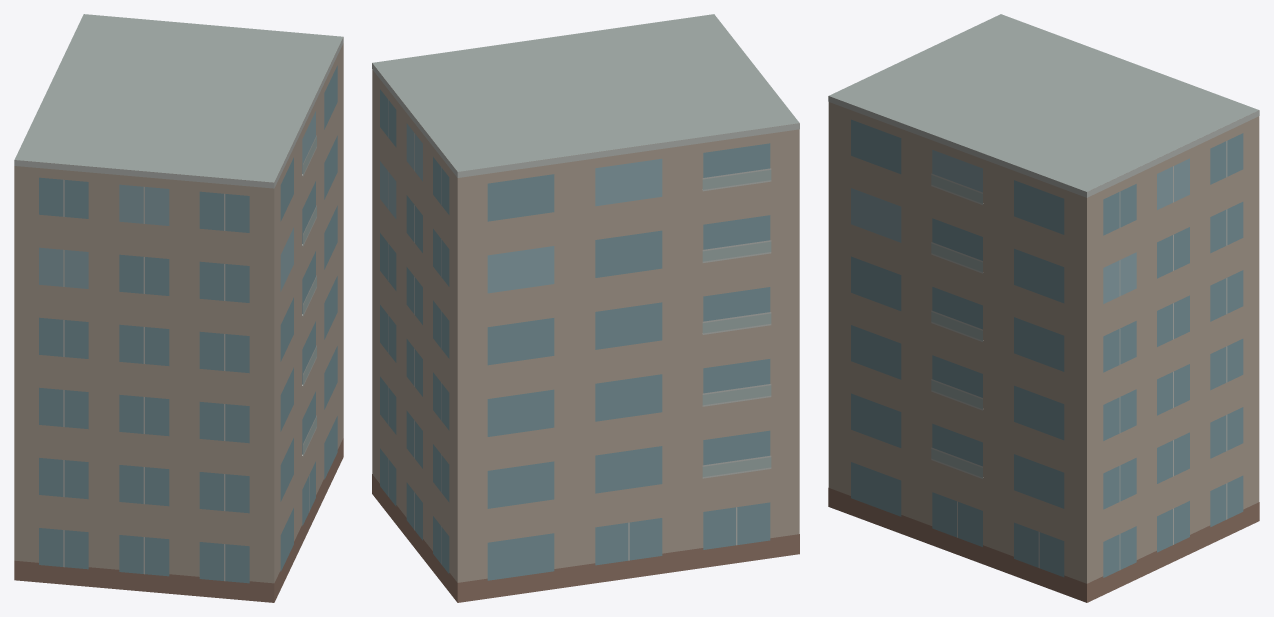
File: survey-upis-32523392.glb
3 renders of one model, left to right at view 1: azimuth 30°, elevation 25°; view 2: azimuth 150°, elevation 25°; view 3: azimuth 270°, elevation 25°, orthographic. The views are drawn at different scales.
Visible parts, largest first — view 1: survey-upis-32523392.tmp; view 2: survey-upis-32523392.tmp; view 3: survey-upis-32523392.tmp.
Part boxes in pixels (x1,y1,x2,y2): survey-upis-32523392.tmp: (14, 14, 343, 602); survey-upis-32523392.tmp: (372, 14, 799, 602); survey-upis-32523392.tmp: (828, 14, 1259, 602).
Size of the model in its own units: 15.9 by 17.1 by 16.26.
